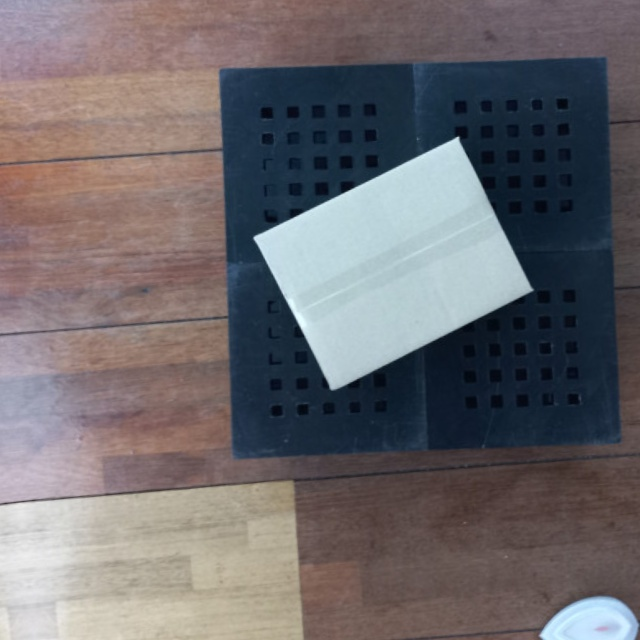box: (247, 129, 540, 396)
pallet: (206, 46, 628, 462)
